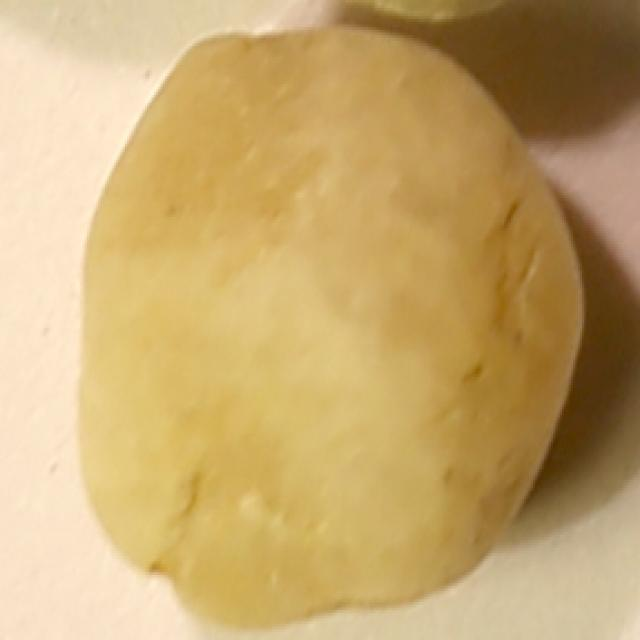stone: (67, 8, 584, 640)
